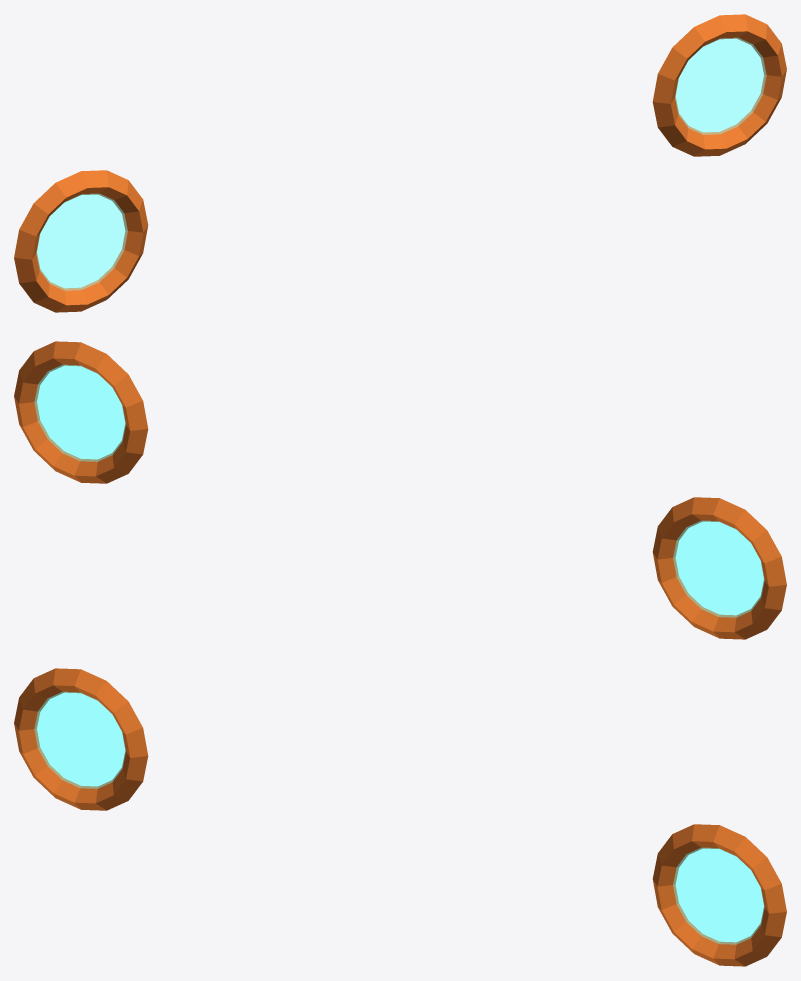
3 renders of one model, top to bottom at view 1: azimuth 30°, elevation 25°; view 2: azimuth 150°, elevation 25°; view 3: azimuth 330°, elevation 25°, orthographic.
Visible parts, largest first — view 1: porthole_l_ring, porthole_r_ring, porthole_r_glass, porthole_l_glass; view 2: porthole_l_ring, porthole_r_ring, porthole_r_glass, porthole_l_glass; view 3: porthole_l_ring, porthole_r_ring, porthole_l_glass, porthole_r_glass.
Boxes of the visible parts, x1=… form: porthole_l_ring: x1=14, y1=170, x2=148, y2=312; porthole_r_ring: x1=652, y1=14, x2=786, y2=156; porthole_r_glass: x1=675, y1=38, x2=766, y2=134; porthole_l_glass: x1=36, y1=194, x2=127, y2=290; porthole_l_ring: x1=652, y1=497, x2=786, y2=639; porthole_r_ring: x1=14, y1=341, x2=148, y2=483; porthole_r_glass: x1=34, y1=365, x2=125, y2=461; porthole_l_glass: x1=673, y1=521, x2=764, y2=617; porthole_l_ring: x1=14, y1=668, x2=148, y2=810; porthole_r_ring: x1=652, y1=824, x2=786, y2=966; porthole_l_glass: x1=34, y1=692, x2=125, y2=788; porthole_r_glass: x1=673, y1=848, x2=764, y2=944.
Size of the model in its own units: 4.72 by 0.82 by 0.14.
